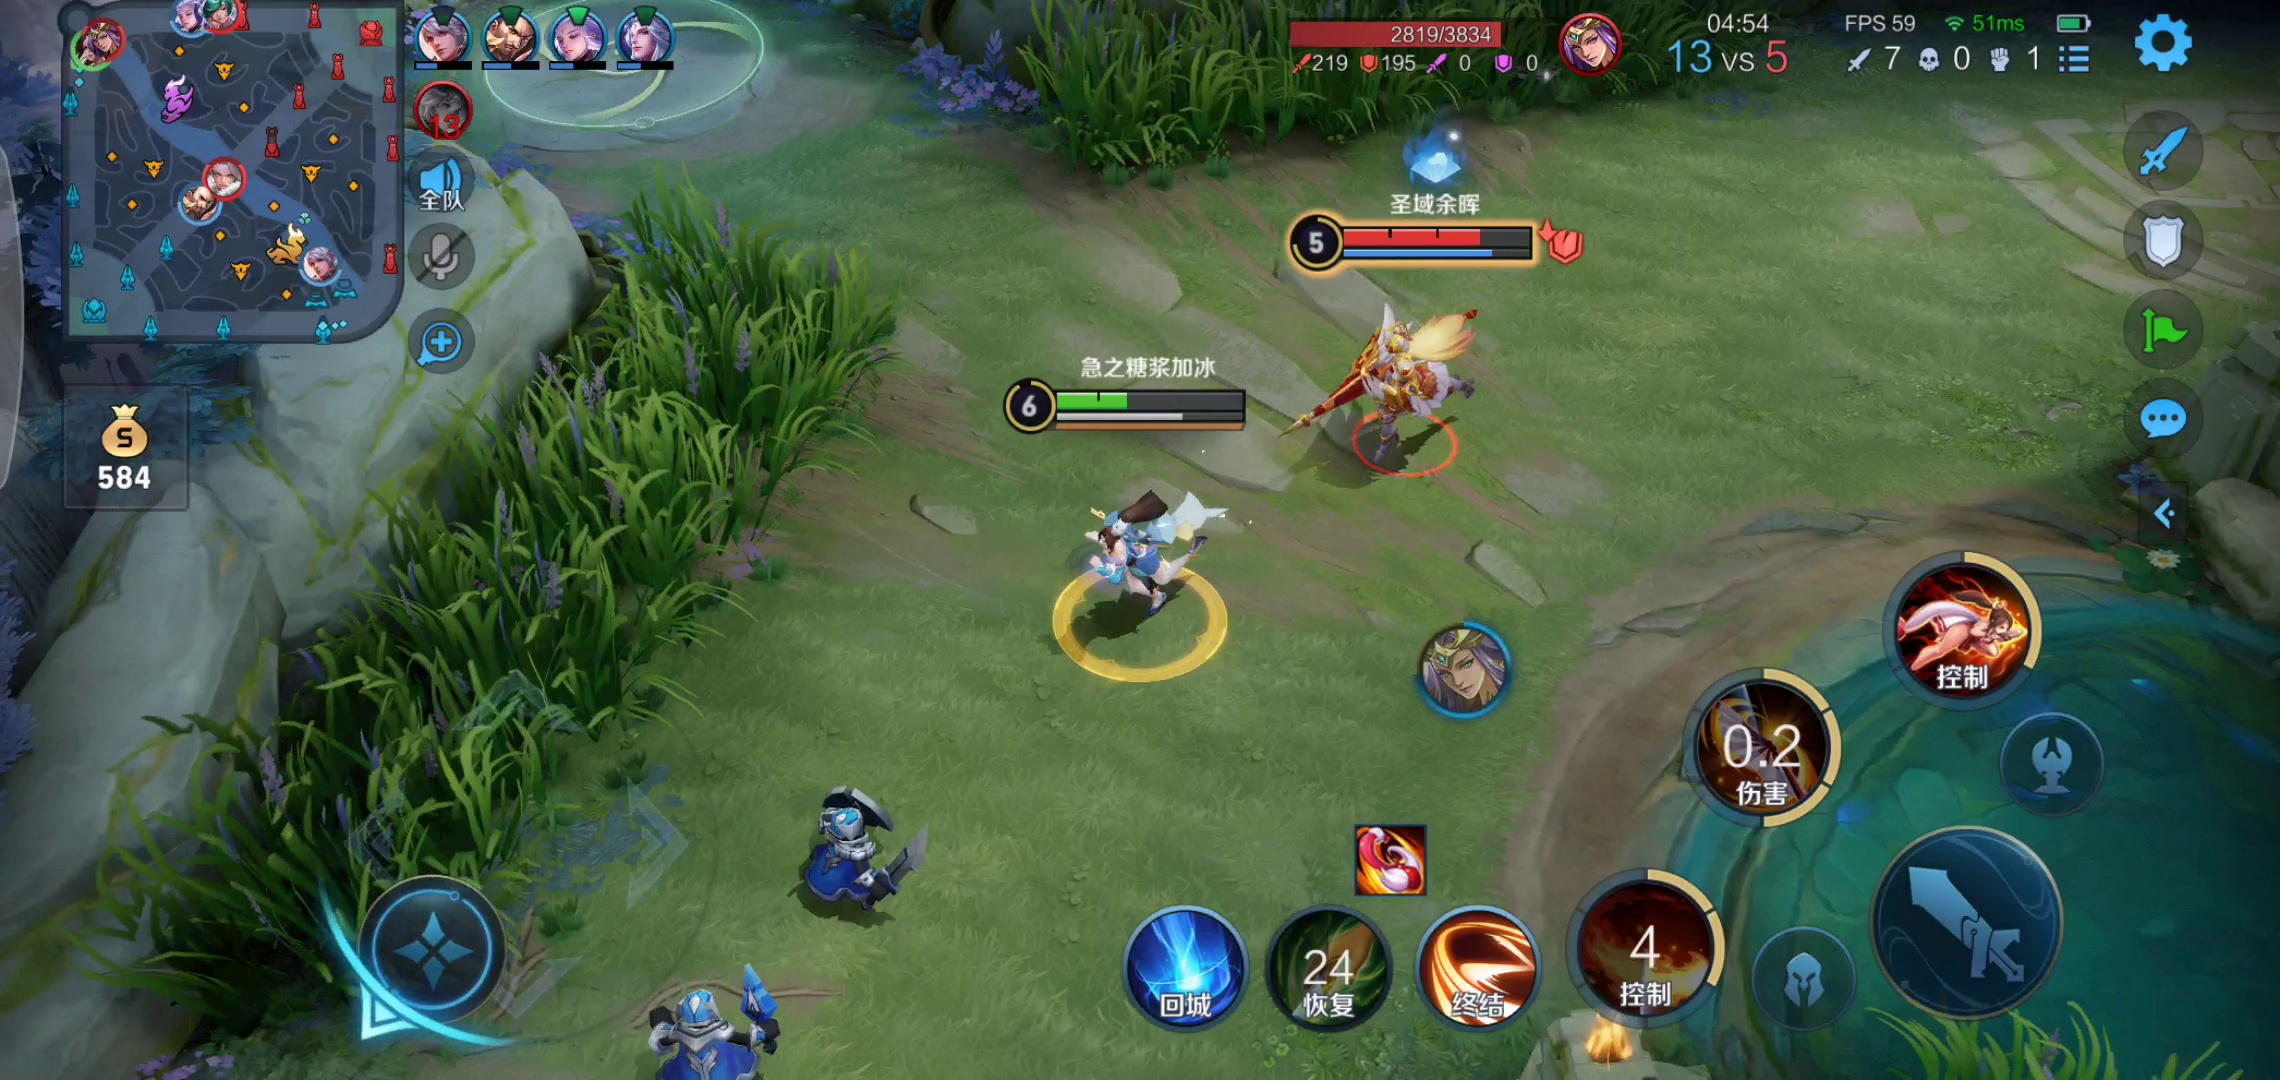grass: (132, 233, 891, 967), (1035, 1, 1739, 167), (1898, 999, 2233, 1080)
hero: (1054, 474, 1237, 656), (1309, 299, 1483, 464)
soldier: (784, 781, 932, 930), (618, 956, 772, 1080)
